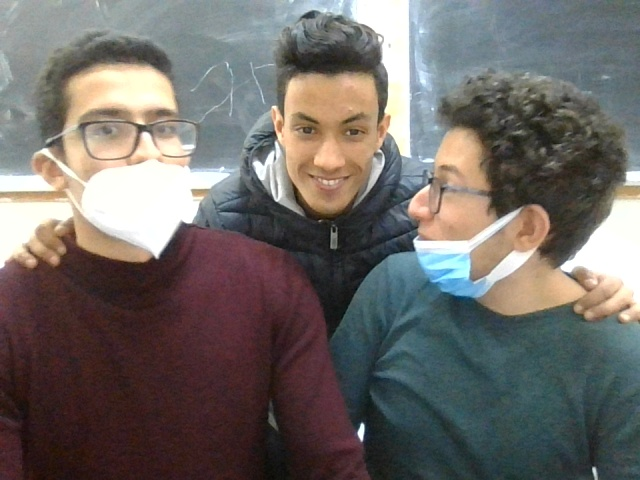mask_weared_incorrect: (411, 73, 587, 308)
without_mask: (268, 22, 397, 215)
